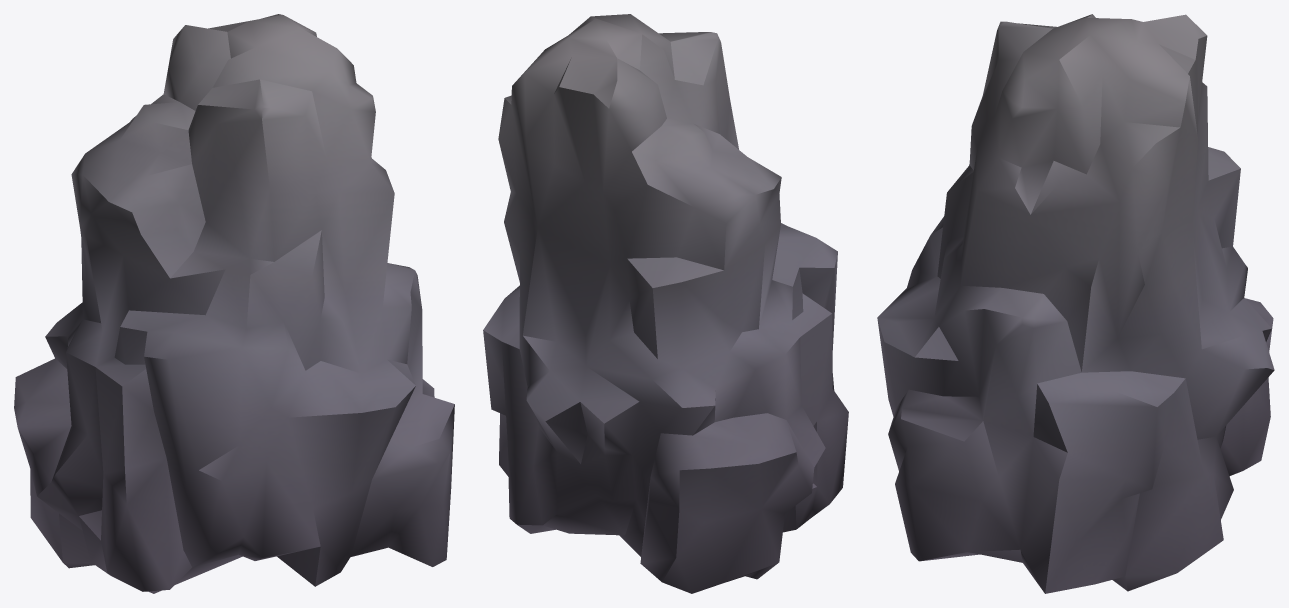
The model's file is rock_norotate.002.fbx.
3 views of the same model, side by side, from view 1: azimuth 30°, elevation 25°; view 2: azimuth 150°, elevation 25°; view 3: azimuth 270°, elevation 25° (orthographic). The views are drawn at different scales.
Visible parts, largest first — view 1: rock_norotate.002; view 2: rock_norotate.002; view 3: rock_norotate.002.
Boxes of the visible parts, x1,y1,x2,y2 form: rock_norotate.002: (14, 14, 454, 593); rock_norotate.002: (483, 14, 848, 593); rock_norotate.002: (877, 14, 1274, 593).
Size of the model in its own units: 463 by 633 by 428.
